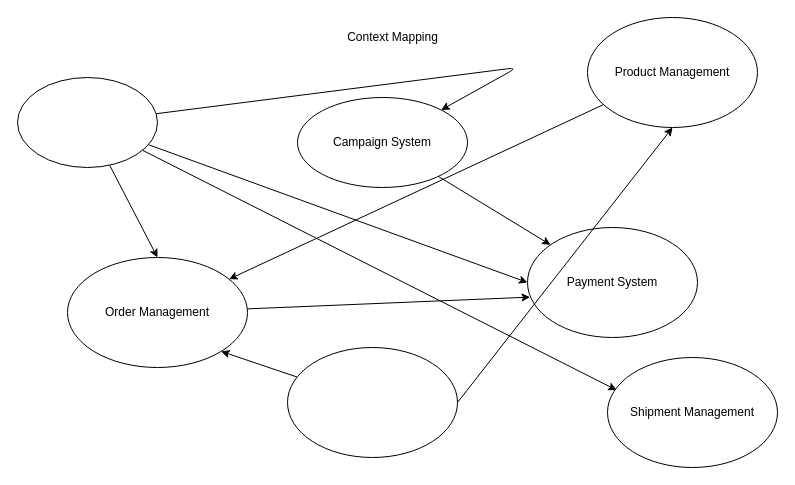
The diagram is 795 pixels wide and 485 high, and some of its shapes have lost their labels. Here are the shapes that lost their labels. From the top down, the centre of each, then its label:
(87,122): Customer Profile
(372,402): Basket Management
